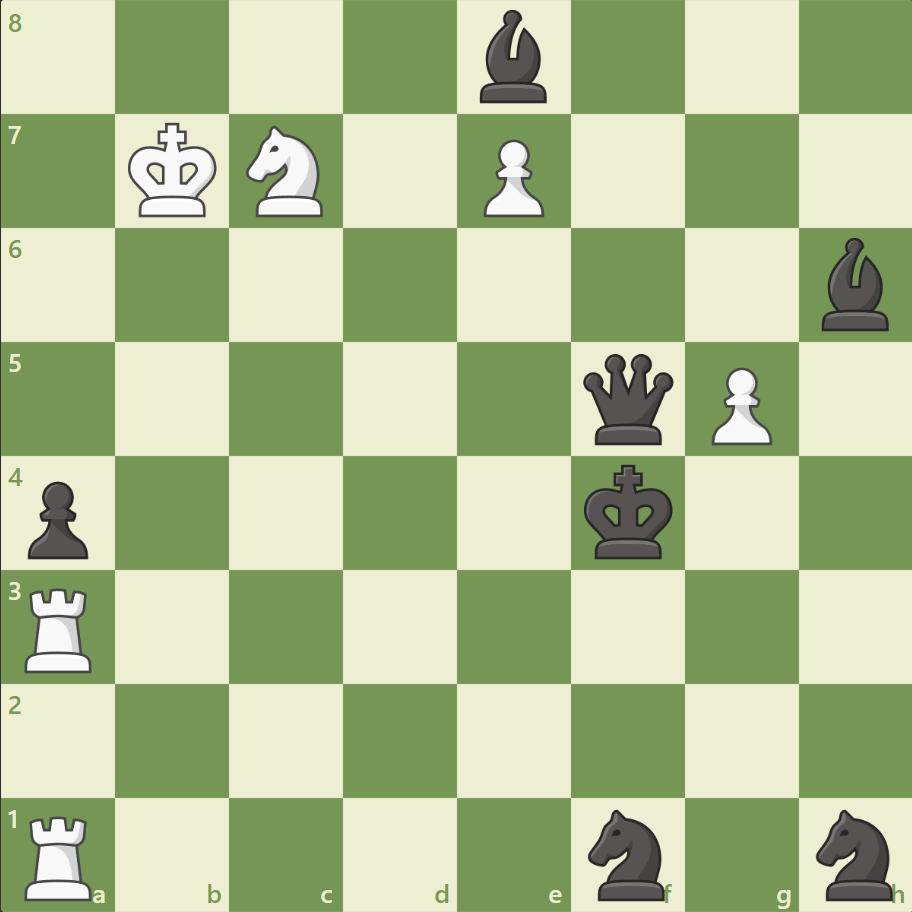K: (124, 117, 224, 225)
N: (238, 121, 335, 223)
P: (474, 132, 549, 223), (701, 359, 776, 450)
R: (19, 806, 102, 904), (19, 579, 102, 676)
b: (471, 6, 555, 109), (812, 233, 896, 336)
k: (579, 458, 679, 566)
n: (579, 802, 676, 904), (806, 802, 903, 904)
p: (20, 473, 95, 564)
q: (578, 349, 677, 449)
